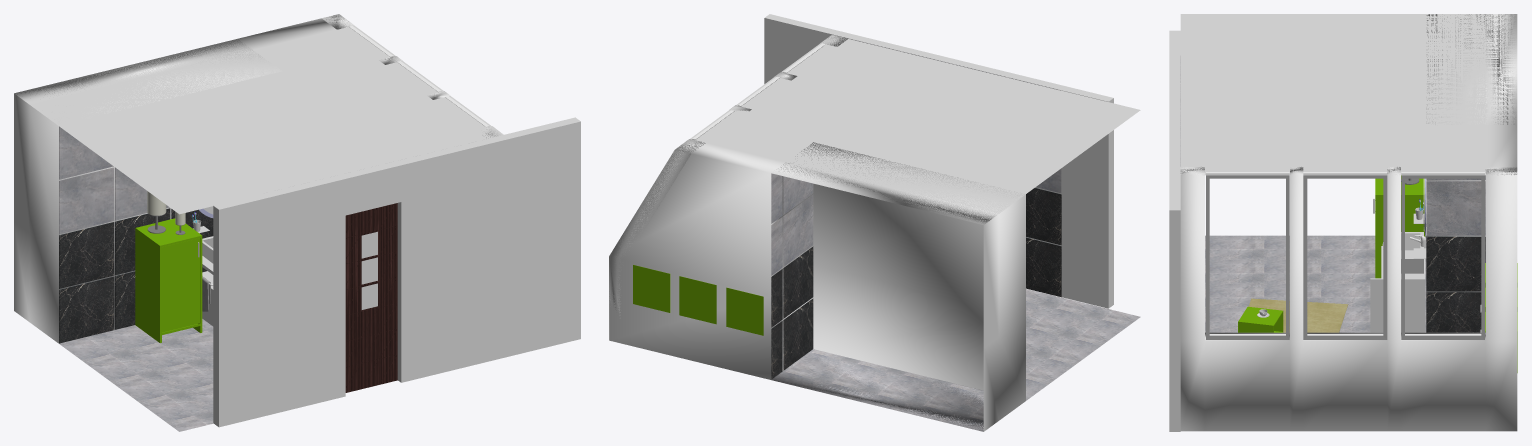
The model's file is LAZIENKA.gltf.
The picture shows the model from 3 angles, left to right: view 1: azimuth 30°, elevation 25°; view 2: azimuth 150°, elevation 25°; view 3: azimuth 270°, elevation 25°; orthographic projection. The views are drawn at different scales.
Parts seen in each view (by area): view 1: Plane.025, Cube, Plane.012, Plane.026, Plane.015, Plane, Plane.001, Plane.027; view 2: Cube, Plane.025, Plane.004, Plane.013, Plane.029, Plane.016, Plane.028; view 3: Cube, Plane.013, Plane.025, Plane.016, Plane.030, Plane.032, Plane.031, Plane.003, Plane, Plane.011, Plane.017, Circle.007.
Part boxes in pixels (<box>): Plane.025: <box>213,117,580,427</box>; Cube: <box>14,14,503,431</box>; Plane.012: <box>59,208,213,343</box>; Plane.026: <box>345,203,397,392</box>; Plane.015: <box>59,126,169,234</box>; Plane: <box>135,218,202,342</box>; Plane.001: <box>162,238,199,332</box>; Plane.027: <box>361,231,377,309</box>; Cube: <box>609,34,1140,431</box>; Plane.025: <box>764,14,1113,308</box>; Plane.004: <box>633,265,763,335</box>; Plane.013: <box>771,246,813,379</box>; Plane.029: <box>1026,188,1061,297</box>; Plane.016: <box>771,173,813,275</box>; Plane.028: <box>849,38,1061,193</box>; Cube: <box>1180,14,1517,431</box>; Plane.013: <box>1426,236,1485,332</box>; Plane.025: <box>1169,30,1180,431</box>; Plane.016: <box>1426,175,1485,235</box>; Plane.030: <box>1303,172,1387,339</box>; Plane.032: <box>1206,172,1289,339</box>; Plane.031: <box>1401,172,1484,339</box>; Plane.003: <box>1370,246,1425,332</box>; Plane: <box>1375,175,1425,278</box>; Plane.011: <box>1248,298,1348,332</box>; Plane.017: <box>1238,306,1283,332</box>; Circle.007: <box>1382,232,1423,273</box>.
Bounding box in the file's own units: 5.34 × 2.81 × 3.99.
28 materials, 9 textured.
